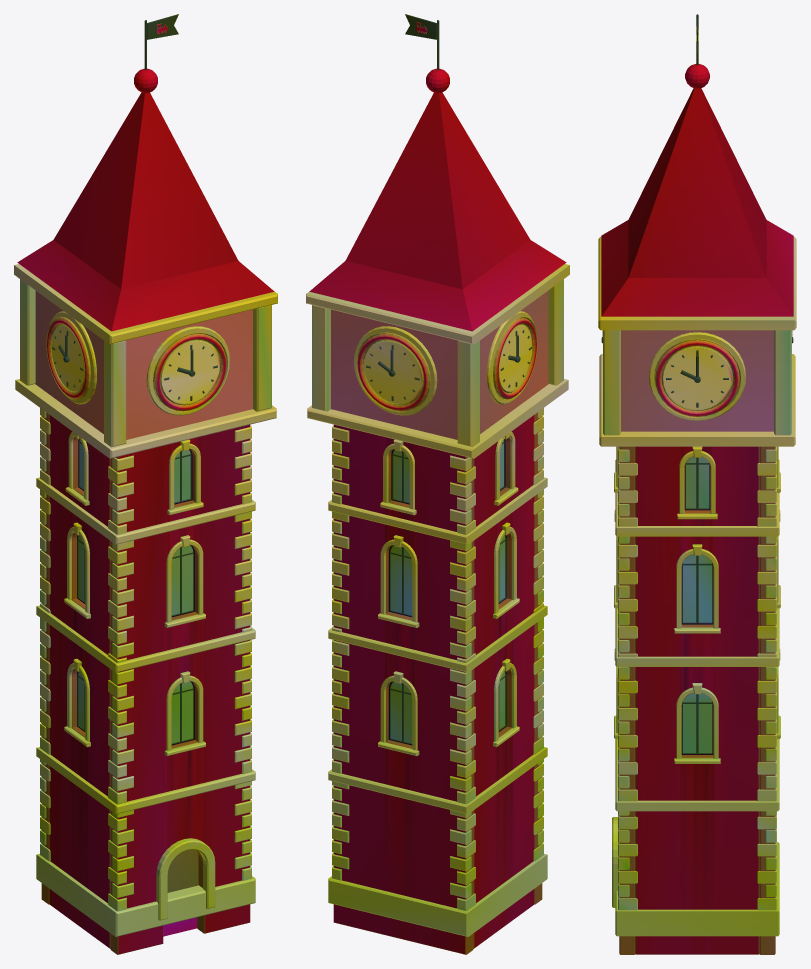
The model's file is GS_ClockTower.fbx.
The picture shows the model from 3 angles, left to right: view 1: azimuth 30°, elevation 25°; view 2: azimuth 150°, elevation 25°; view 3: azimuth 270°, elevation 25°; orthographic projection.
Visible parts, largest first — view 1: GS_ClockTower; view 2: GS_ClockTower; view 3: GS_ClockTower.
Part boxes in pixels (left/top/right/bottom): GS_ClockTower: left=14, top=14, right=277, bottom=954; GS_ClockTower: left=306, top=14, right=569, bottom=954; GS_ClockTower: left=598, top=14, right=796, bottom=954.
Size of the model in its own units: 6.6 by 33.39 by 6.6.
